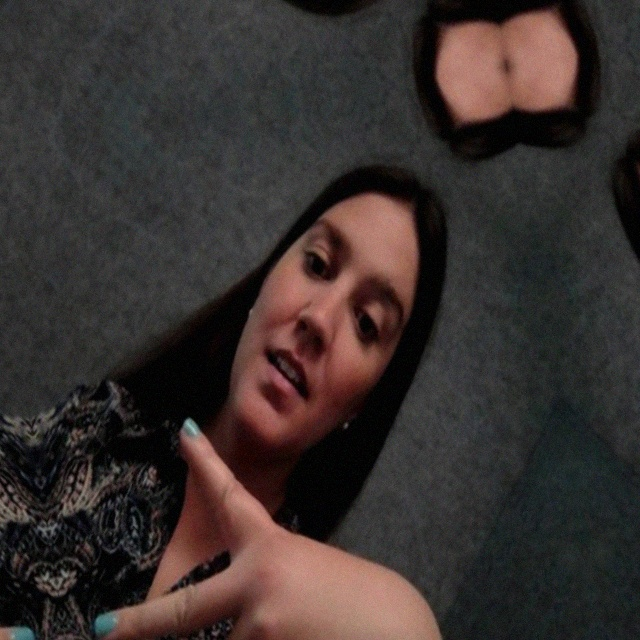Scissors: (34, 340, 474, 640)
